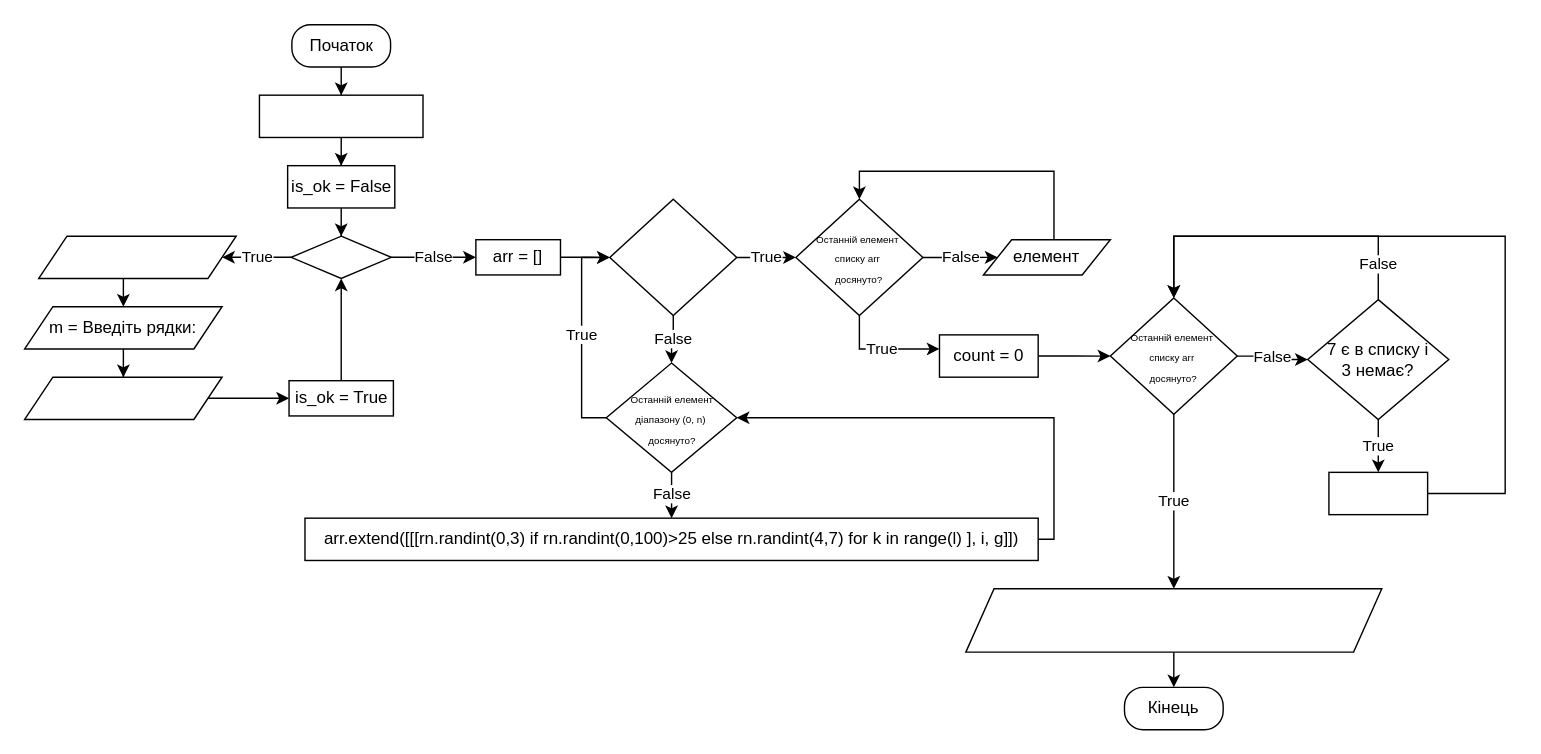
The diagram is 1541 pixels wide and 754 high, and some of its shapes have lost their labels. Each missing label, with the box of its shape:
count +=1: (1328, 471, 1428, 515)
l = Введіть глибину:: (37, 235, 236, 278)
n = Введіть стовпці:: (23, 376, 222, 419)
not is_ok: (290, 235, 391, 278)
Кількість стовпців без води і з золотом: ", count: (964, 587, 1382, 652)
Останній елемент діапазону (0, m) досянуто?: (608, 198, 737, 316)
Імпортуєм random: (258, 94, 423, 137)
